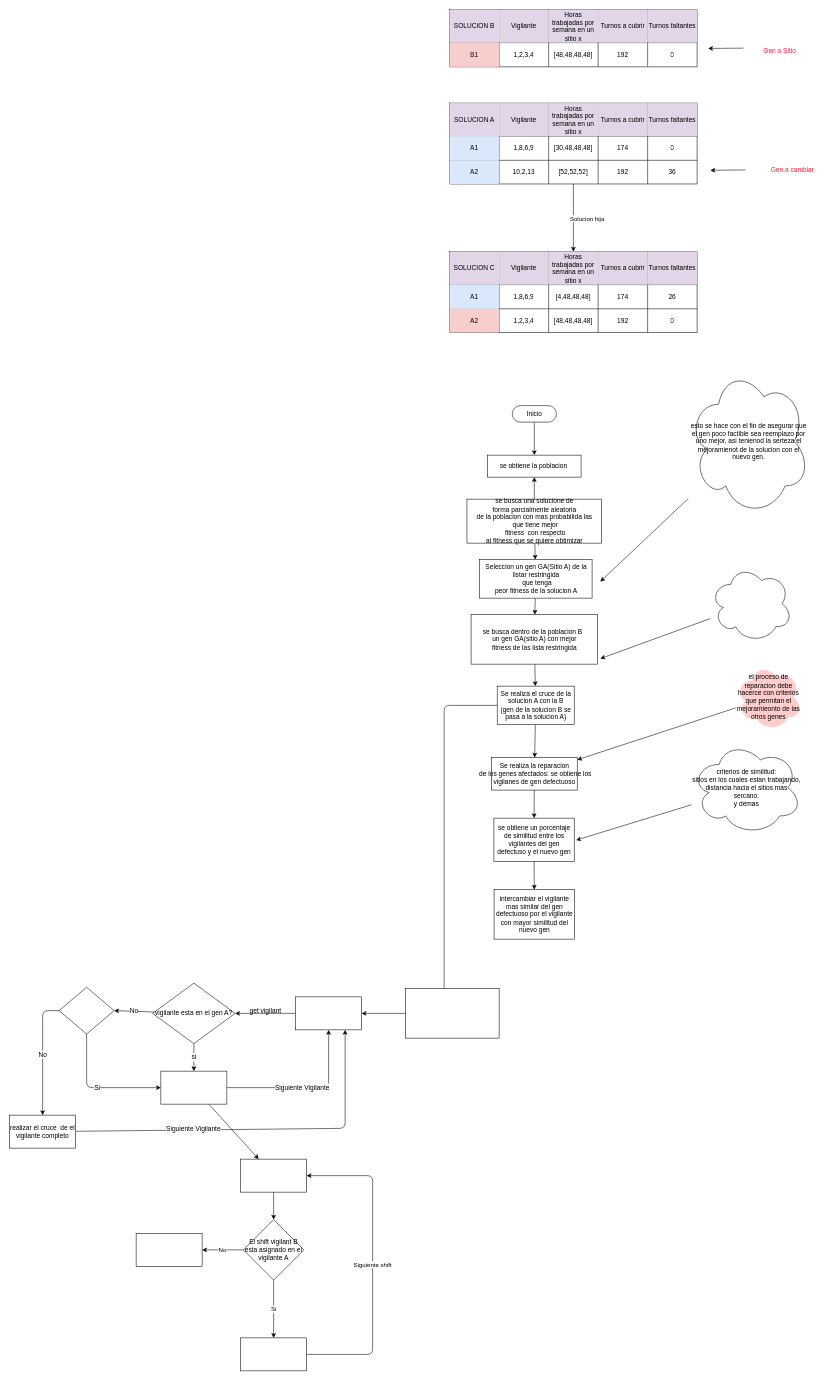
Some shapes in this 829 by 1381 pixel diagram are drawn without their labels. Here are the shapes that lost their labels. From the top down, the centre of each, then its label:
At point 751,603: "se busca el mejor gen dentro de la poblacion para acelerar la convergencia".
At point 86,1010: "El vigilante tiene sitio por default".
At point 328,1013: "Lista de vigilantes del gen B".
At point 452,1013: "se toman los dos genes A(gen desfectuoso) y B(gen bueno) a intercambiar".
At point 193,1087: "realiza el cruse de los shifts de los vigilantes".
At point 273,1175: "obtener lista de shits de vigilantes".
At point 169,1249: "Se asigna".
At point 273,1354: "Continue".
